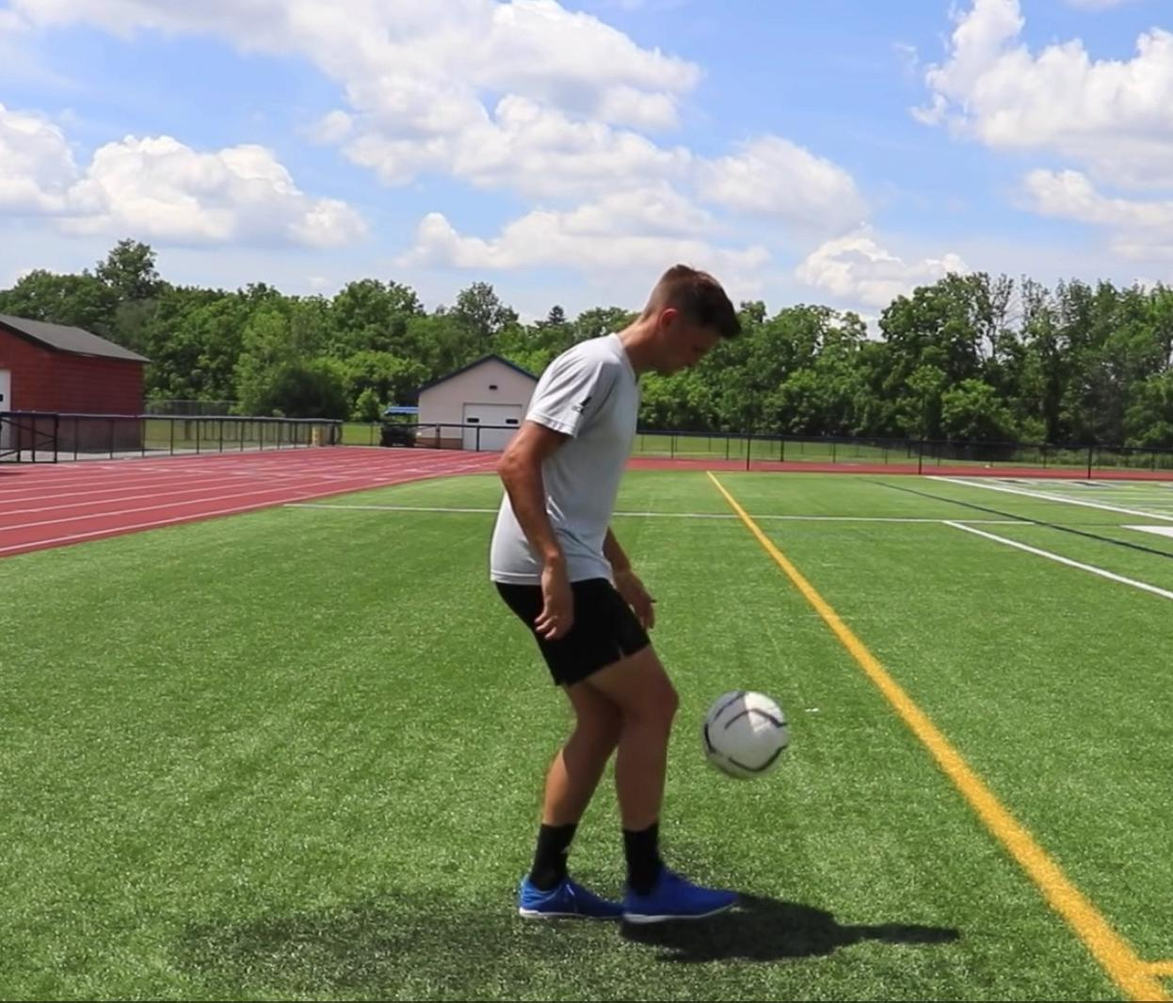ball: (701, 689, 790, 779)
foot: (620, 859, 745, 929), (514, 866, 625, 923)
person: (485, 263, 749, 939)
